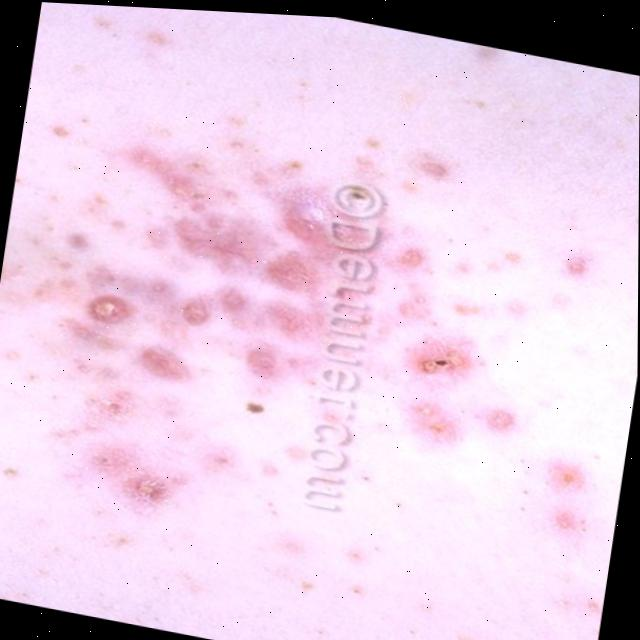Rosacea: (49, 107, 534, 562)
